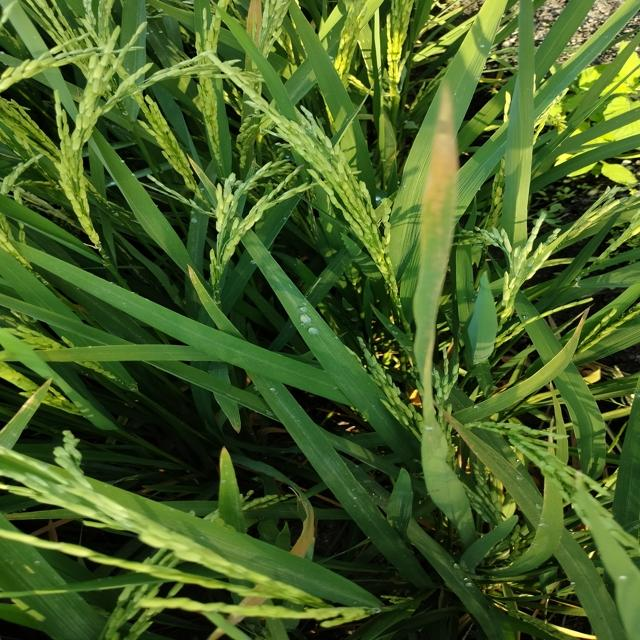healthy: (414, 71, 470, 250), (286, 493, 328, 556), (444, 411, 475, 448), (241, 1, 266, 39)
